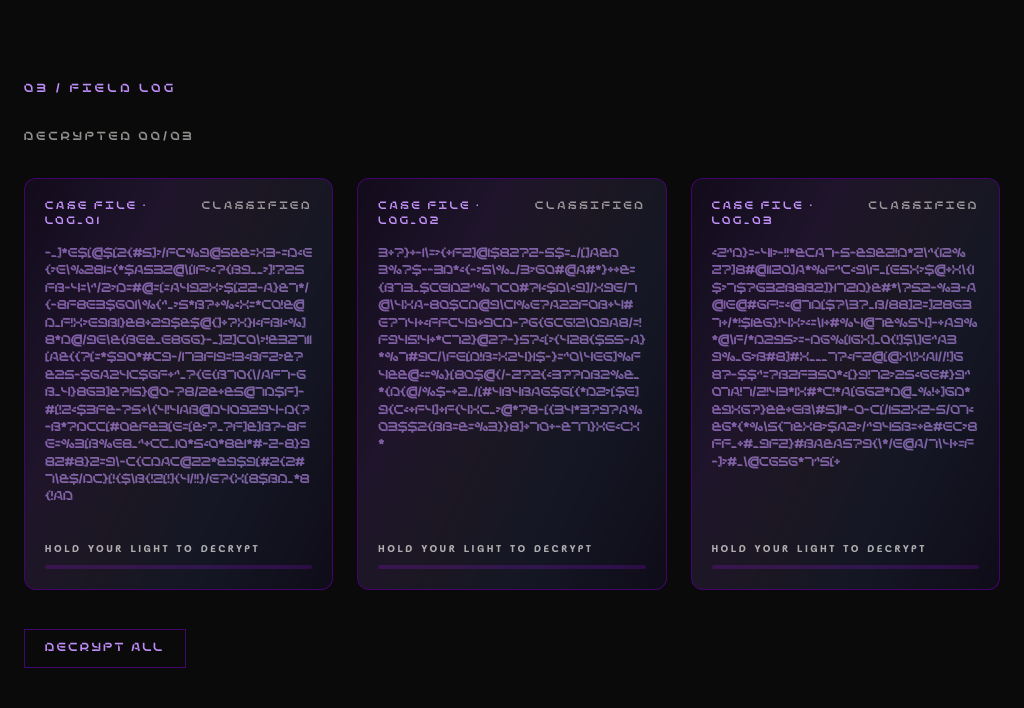
AboutSection › exploring (flat mode, mouse) › decrypts a case file on click, then all of them
The image size is (1024, 708).
(page scrolled)
Click the button with aria-label "Experience:": (179, 384) x1=24 y1=178 x2=333 y2=590
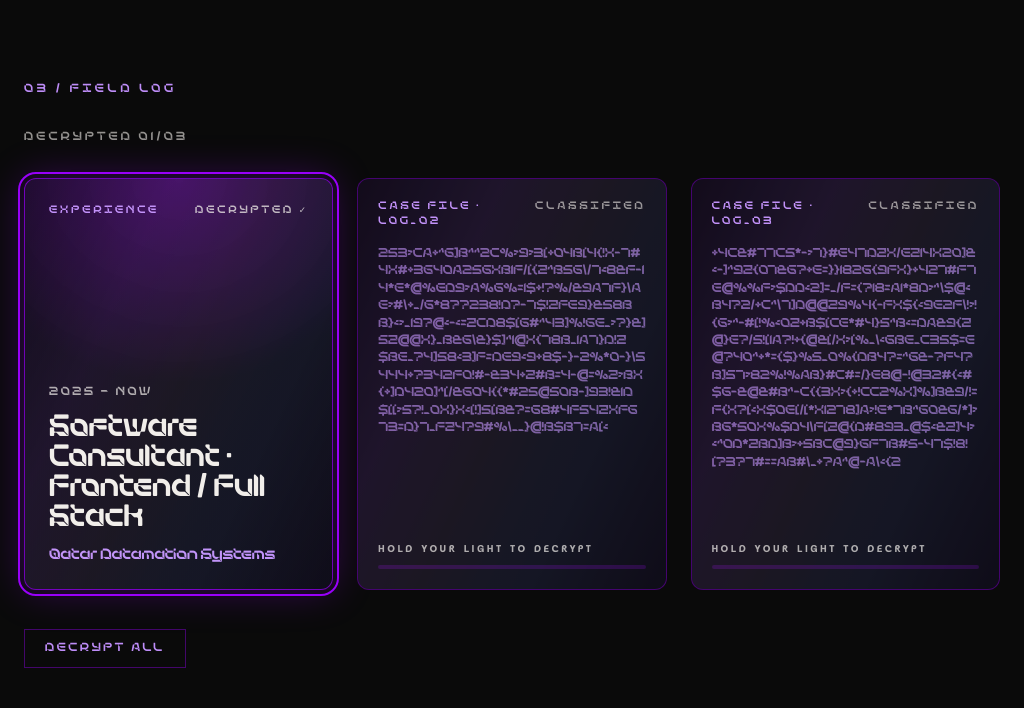
Now the text "DECRYPTED 01/03" is shown, box x1=24 y1=132 x2=188 y2=142
Click the button "Decrypt all": (105, 649) x1=24 y1=629 x2=186 y2=668
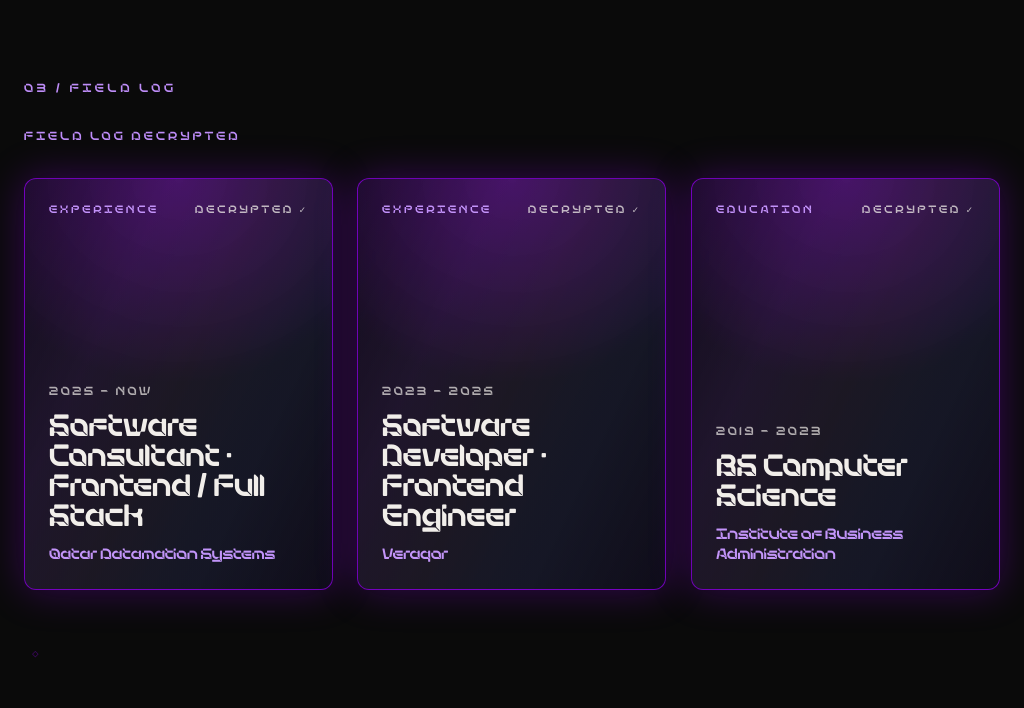
Now the text "FIELD LOG DECRYPTED" is shown, box x1=24 y1=132 x2=241 y2=142
